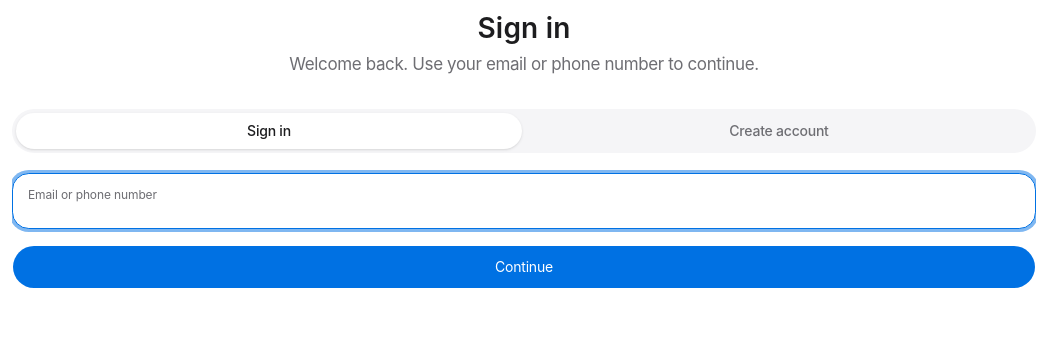
SignInFlow with a phone number › says when the code is wrong, clears the boxes and lets the person try again
Type "+1 415 555 2671" into the field labelled "Email or phone number".
click(524, 201); type("+1 415 555 2671")  # box [12, 173, 1036, 229]
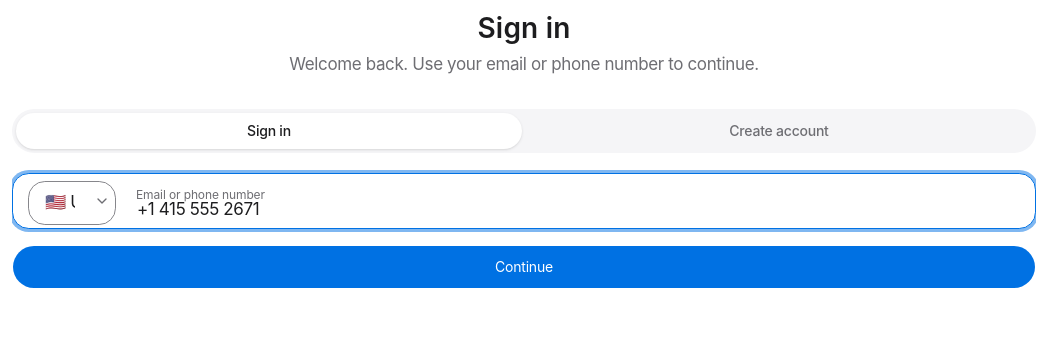
Click the button "Continue".
click(524, 267)  # box [12, 245, 1036, 289]
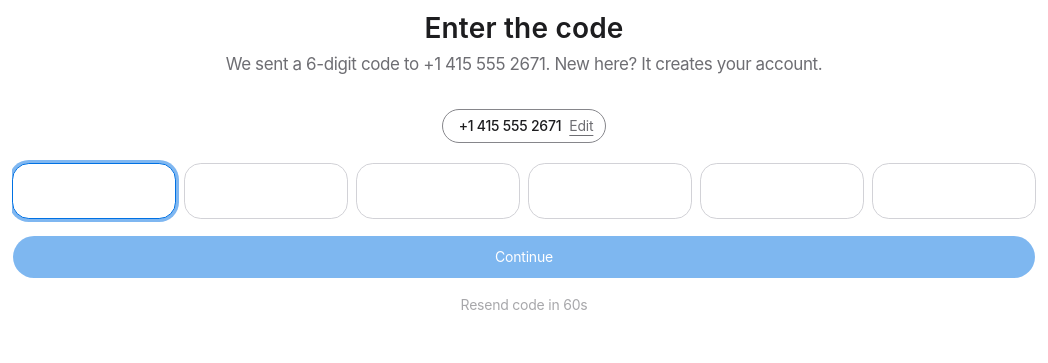
Now the text "We sent a 6-digit code" is shown, box [226, 54, 822, 74]
Type keys "000000"
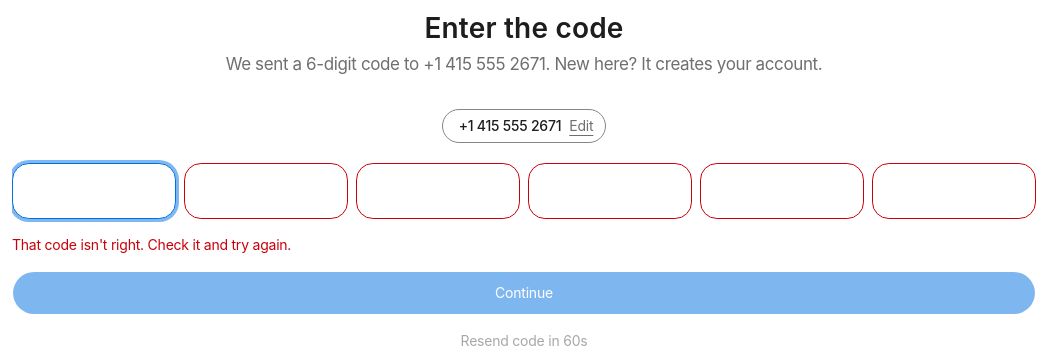
Now the field named "Digit 1 of 6" is empty, box [12, 163, 176, 219]
Now the message shows "That code isn't right", box [12, 236, 291, 253]
